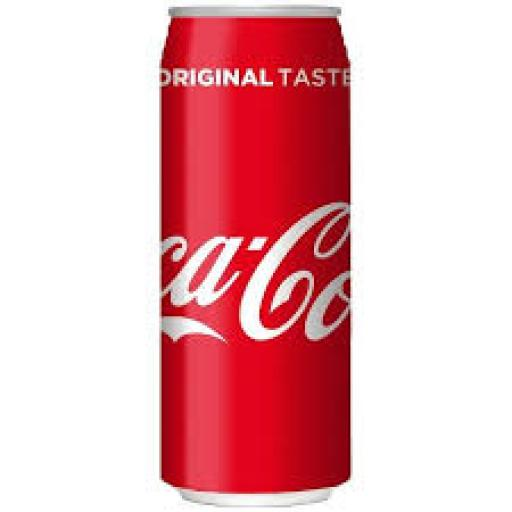Coca: (148, 0, 365, 512)
